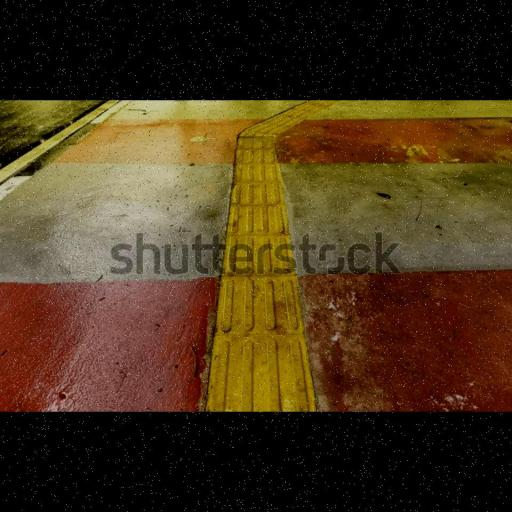line: (206, 333, 317, 413), (216, 276, 301, 333), (225, 204, 286, 239), (231, 179, 283, 203)
